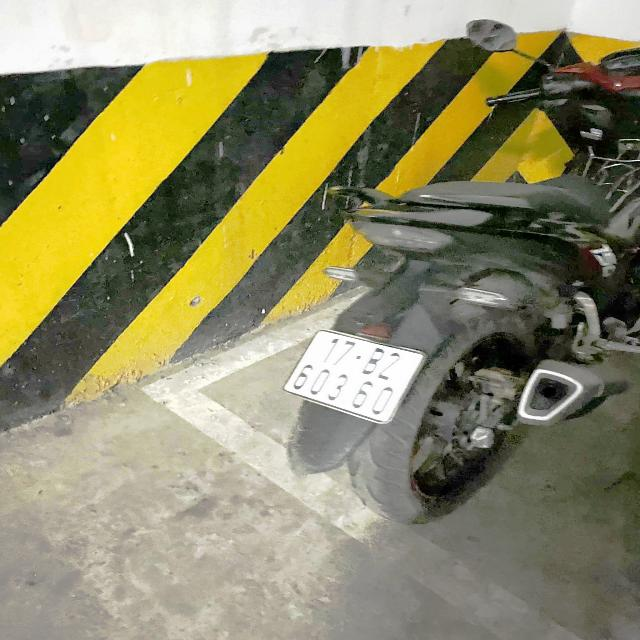license_plate: (279, 322, 428, 431)
